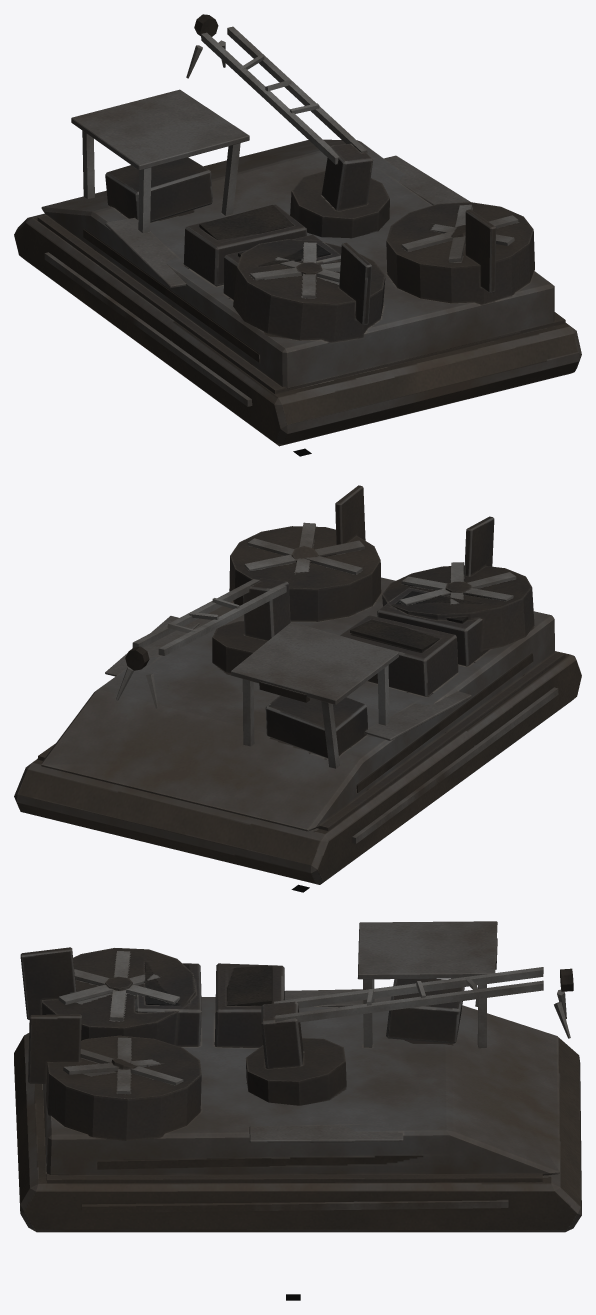
Rendered from chs_drifter_wreck.fbx.
3 views of the same model, one above another, from view 1: azimuth 30°, elevation 25°; view 2: azimuth 150°, elevation 25°; view 3: azimuth 270°, elevation 25° (orthographic). The views are drawn at different scales.
Visible parts, largest first — view 1: base_bar, nano_bar, fan1_bar, fan2_bar; view 2: base_bar, nano_bar, fan2_bar, fan1_bar; view 3: base_bar, nano_bar, fan1_bar, fan2_bar.
Part boxes in pixels (x1,y1,x2,y2): base_bar: (14, 89, 581, 446); nano_bar: (186, 14, 389, 238); fan1_bar: (250, 242, 340, 298); fan2_bar: (401, 204, 518, 262); base_bar: (14, 485, 581, 884); nano_bar: (116, 578, 290, 708); fan2_bar: (244, 522, 364, 574); fan1_bar: (399, 562, 516, 605); base_bar: (14, 921, 581, 1232); nano_bar: (246, 967, 573, 1105); fan1_bar: (58, 951, 180, 1020); fan2_bar: (63, 1037, 183, 1094).
Bounding box in the file's own units: 517 × 521 × 774.
Materials: 2 (2 with a texture image).
